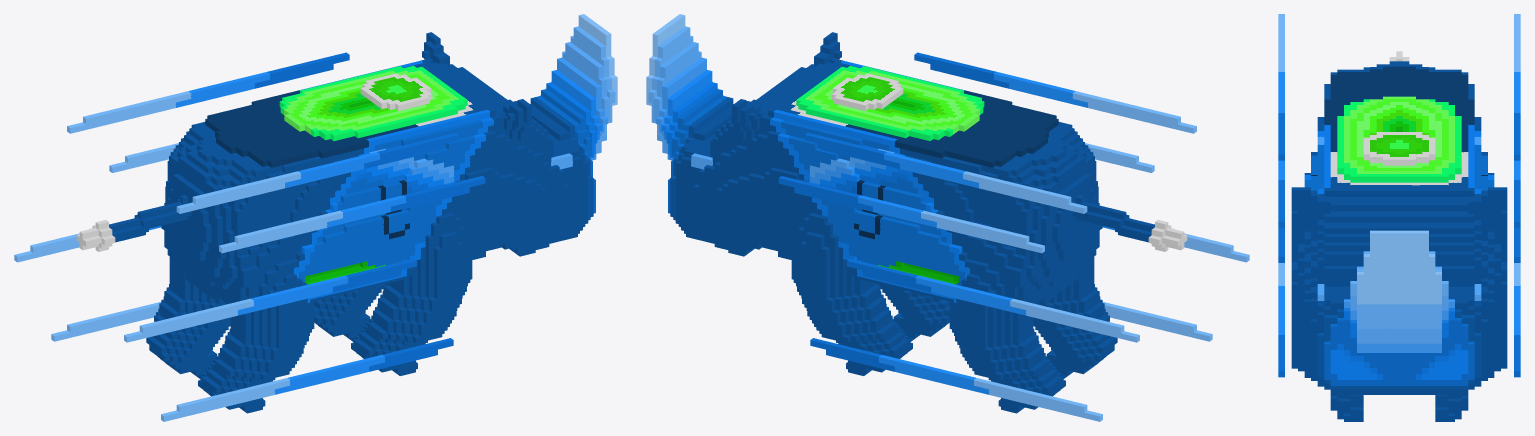
Rendered from 犀牛冲刺.gltf.
3 views of the same model, side by side, from view 1: azimuth 30°, elevation 25°; view 2: azimuth 150°, elevation 25°; view 3: azimuth 270°, elevation 25° (orthographic). The views are drawn at different scales.
Parts seen in each view (by area): view 1: Object; view 2: Object; view 3: Object.
Part boxes in pixels (bbox=[...]): Object: bbox=[14, 14, 617, 421]; Object: bbox=[646, 14, 1249, 421]; Object: bbox=[1278, 14, 1520, 421].
Size of the model in its own units: 100 by 50 by 37.
Materials: 1 (1 with a texture image).
